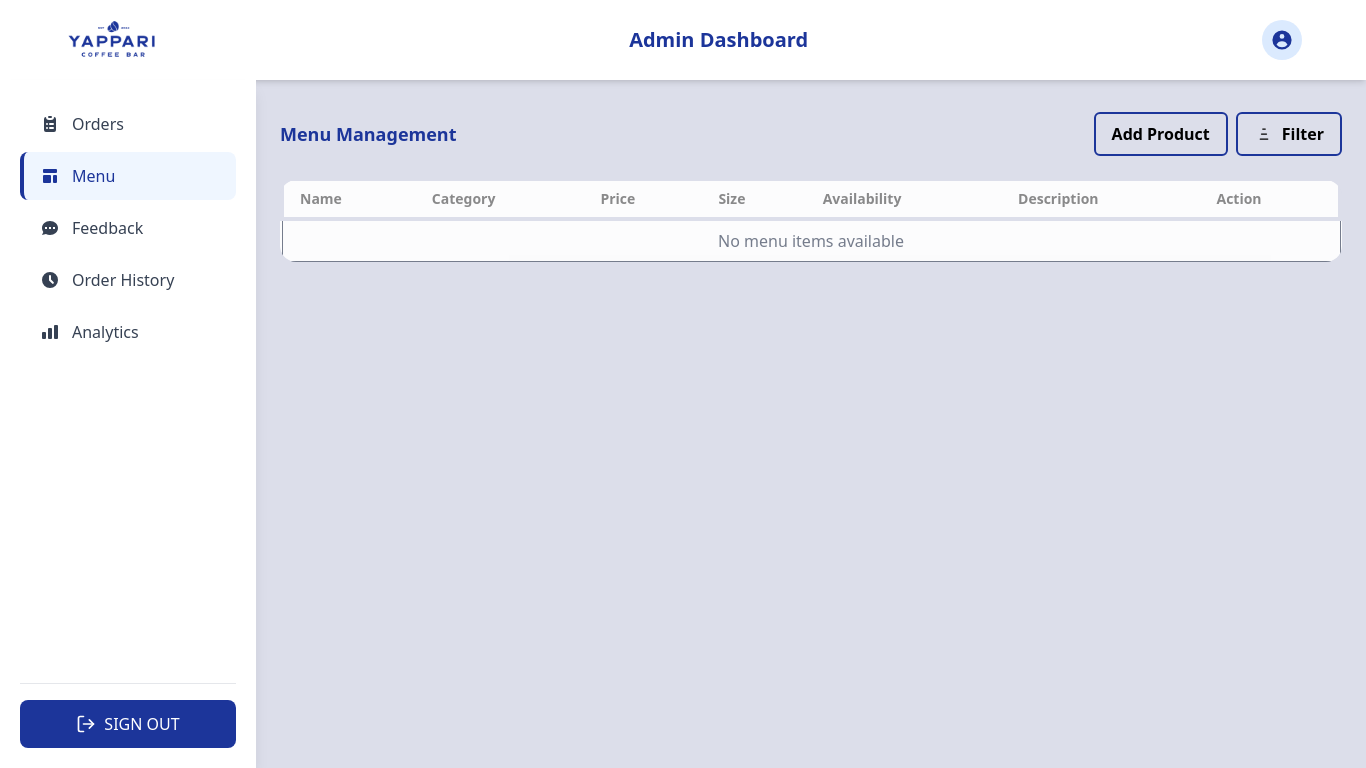
Scenario: Admin Menu Component › opens add product modal when add button is clicked
The width and height of the screenshot is (1366, 768).
What coordinates should you click on to do the following:
click the button with test id "add-product-btn"
I would click on:
 (1161, 134)
Its box is [1094,112,1228,156].
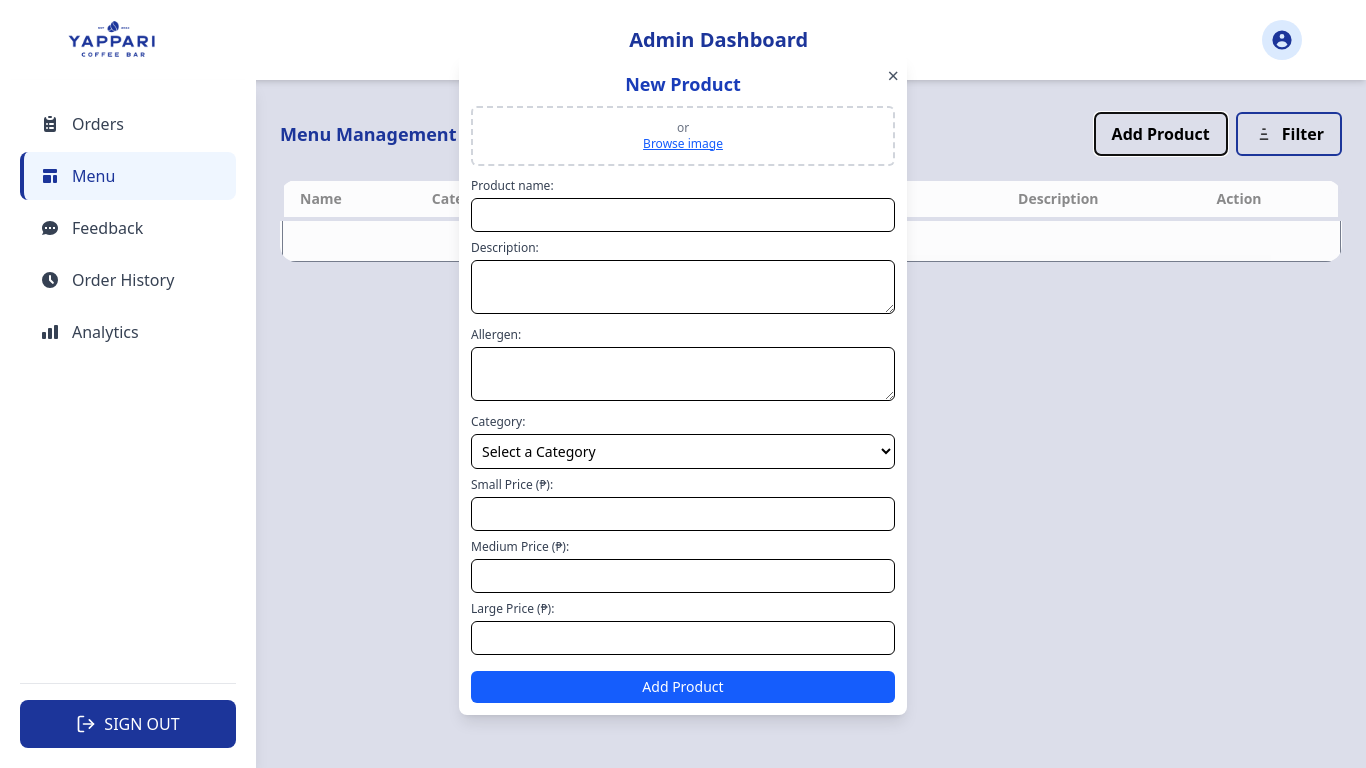
Check: the field with test id "product-name-input" is shown, box [471,198,895,232]
Check: the number field with test id "product-price-input" is shown, box [471,496,895,530]
